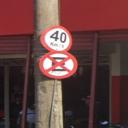speed_limit_40: (40, 25, 73, 53)
